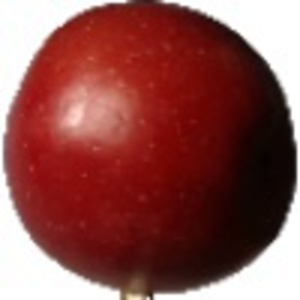maçã braeburn: (2, 1, 299, 292)
